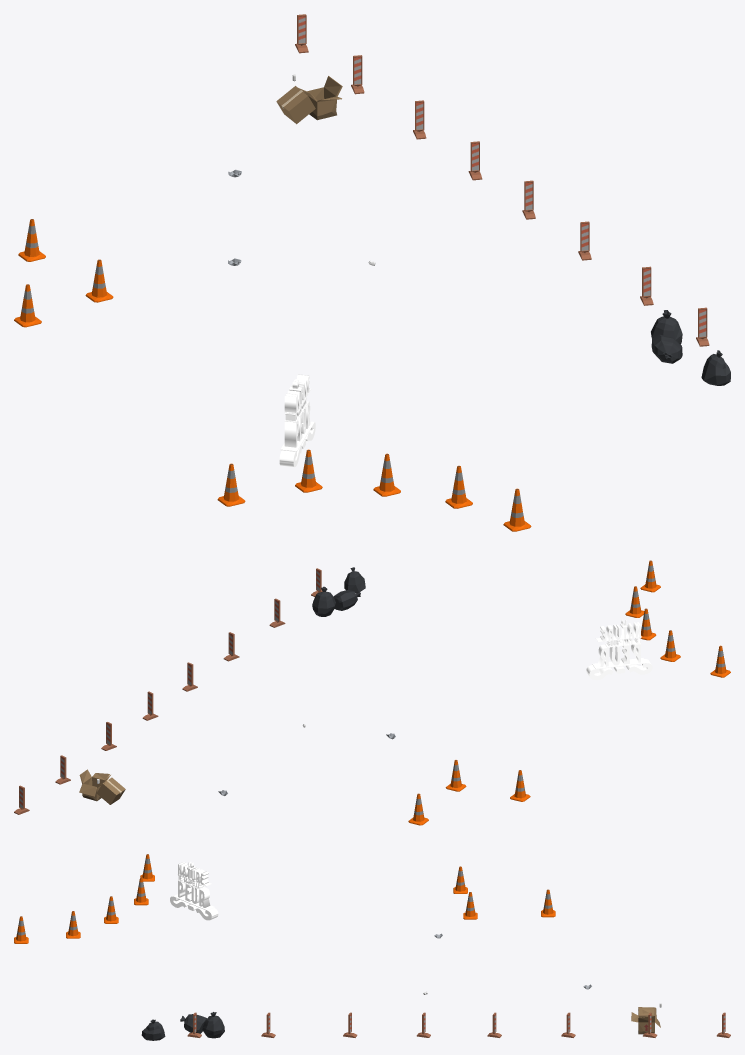
Rendered from active2.gltf.
The picture shows the model from 3 angles, top to bottom: view 1: azimuth 30°, elevation 25°; view 2: azimuth 150°, elevation 25°; view 3: azimuth 270°, elevation 25°; orthographic projection. The views are drawn at different scales.
Visible parts, largest first — view 1: Titre2, carton21, carton20; view 2: Titre2, carton21, sacpoubelle3, carton20; view 3: Titre2, carton21, sacpoubelle3, sacpoubelle1.
Part boxes in pixels (bbox=[...]): Titre2: bbox=[279, 374, 315, 467]; carton21: bbox=[295, 76, 342, 120]; carton20: bbox=[276, 86, 315, 124]; Titre2: bbox=[586, 619, 652, 680]; carton21: bbox=[79, 769, 110, 801]; sacpoubelle3: bbox=[312, 586, 335, 616]; carton20: bbox=[96, 777, 125, 804]; Titre2: bbox=[170, 861, 218, 920]; carton21: bbox=[631, 1007, 660, 1034]; sacpoubelle3: bbox=[202, 1012, 224, 1038]; sacpoubelle1: bbox=[141, 1019, 165, 1040].
Size of the model in its own units: 32.84 by 4.57 by 59.08.
Materials: 4 (2 with a texture image).
